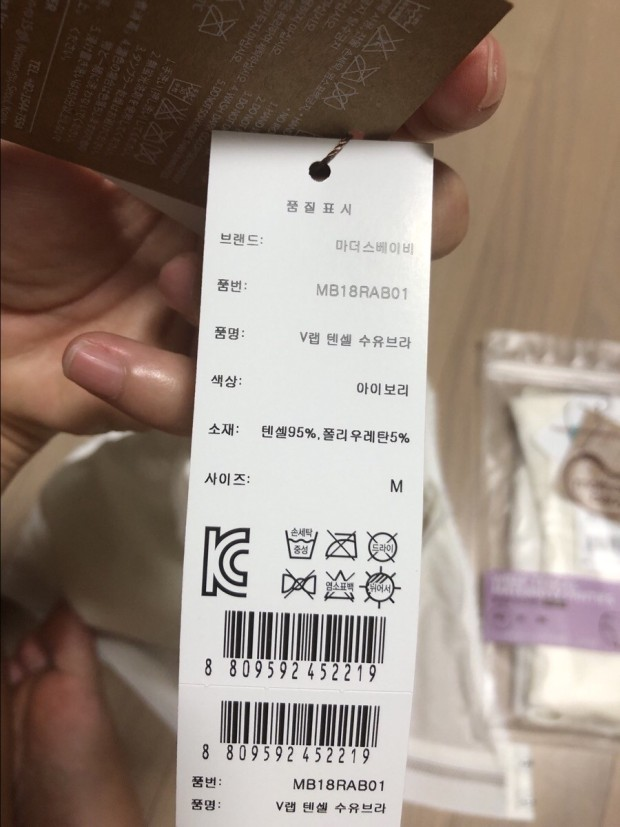KR_flat_dry_in_shade: (364, 568, 397, 606)
KR_hand_wash_30_neutral: (283, 522, 319, 561)
KR_no_chlorine_bleach: (323, 568, 356, 604)
KR_no_dry_clean: (367, 528, 400, 563)
KR_no_iron: (323, 527, 364, 566)
KR_no_wring: (280, 564, 317, 599)
